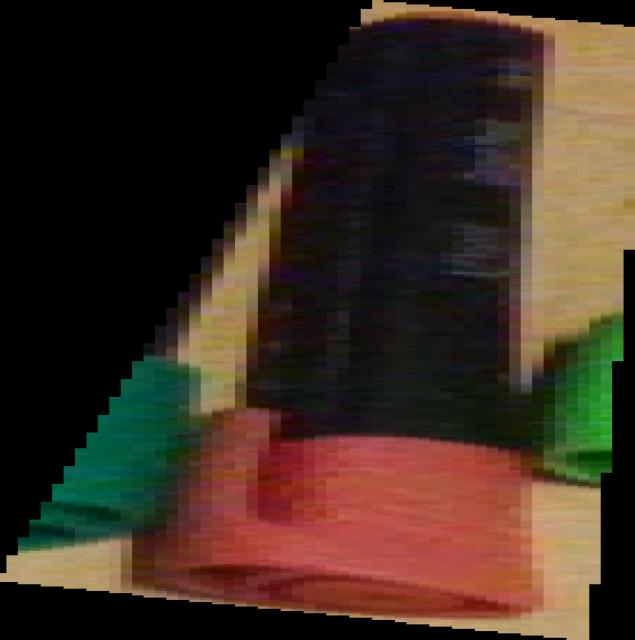red: (0, 1, 635, 640)
